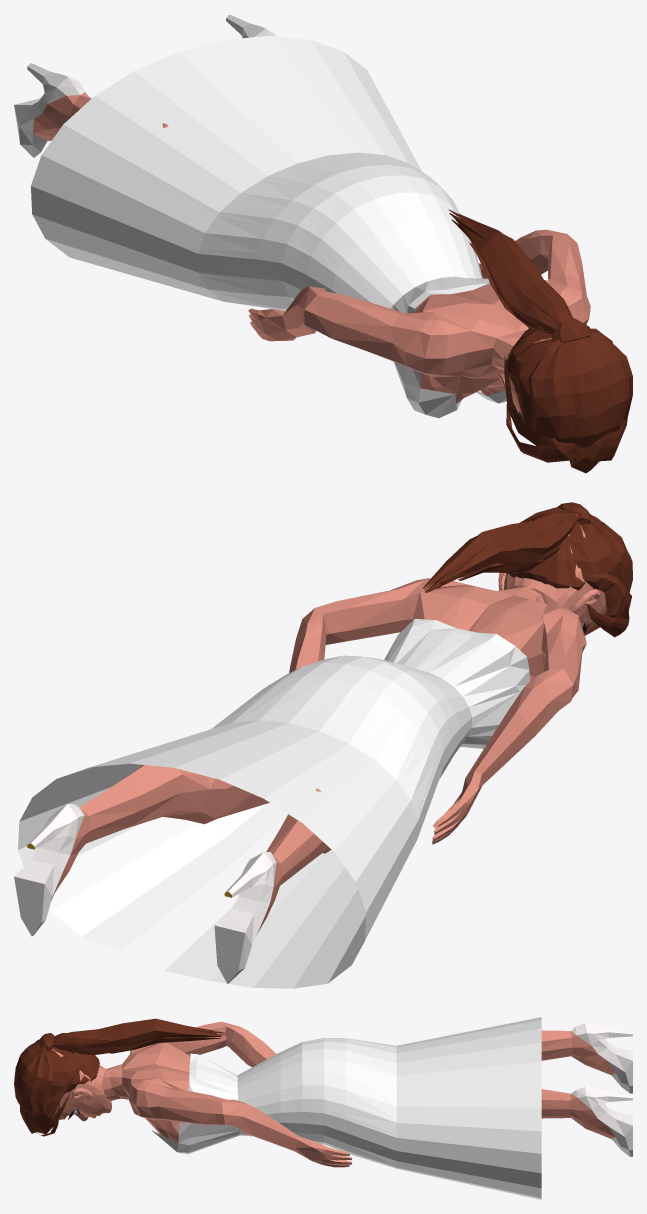
3 views of the same model, one above another, from view 1: azimuth 30°, elevation 25°; view 2: azimuth 150°, elevation 25°; view 3: azimuth 270°, elevation 25° (orthographic). The views are drawn at different scales.
Visible parts, largest first — view 1: sketchylady s; view 2: sketchylady s; view 3: sketchylady s.
Part boxes in pixels (bbox=[...]): sketchylady s: bbox=[14, 14, 632, 473]; sketchylady s: bbox=[14, 502, 632, 988]; sketchylady s: bbox=[14, 1017, 632, 1199].
Size of the model in its own units: 28.98 by 18.55 by 67.16.
